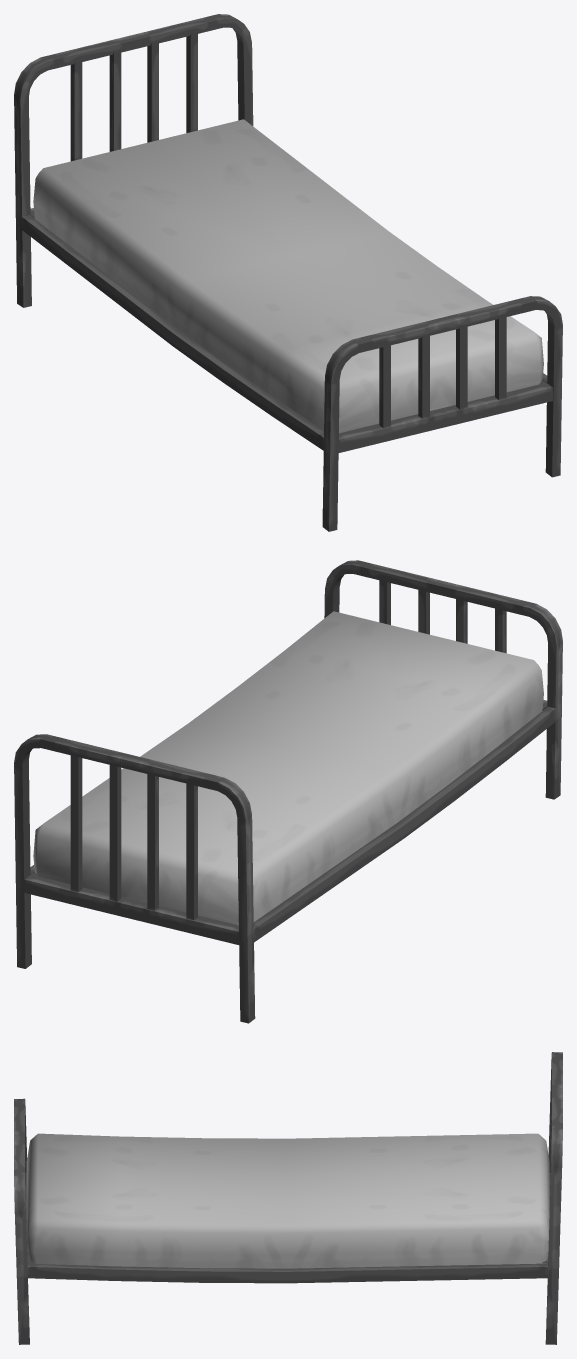
The model's file is obj_Bed.fbx.
The picture shows the model from 3 angles, top to bottom: view 1: azimuth 30°, elevation 25°; view 2: azimuth 150°, elevation 25°; view 3: azimuth 270°, elevation 25°; orthographic projection. The views are drawn at different scales.
Visible parts, largest first — view 1: obj_Bed; view 2: obj_Bed; view 3: obj_Bed.
Part boxes in pixels (<box>): obj_Bed: <box>14,14,562,531</box>; obj_Bed: <box>14,560,562,1023</box>; obj_Bed: <box>14,1052,562,1344</box>.
Size of the model in its own units: 0.9222 by 0.9028 by 2.19.
